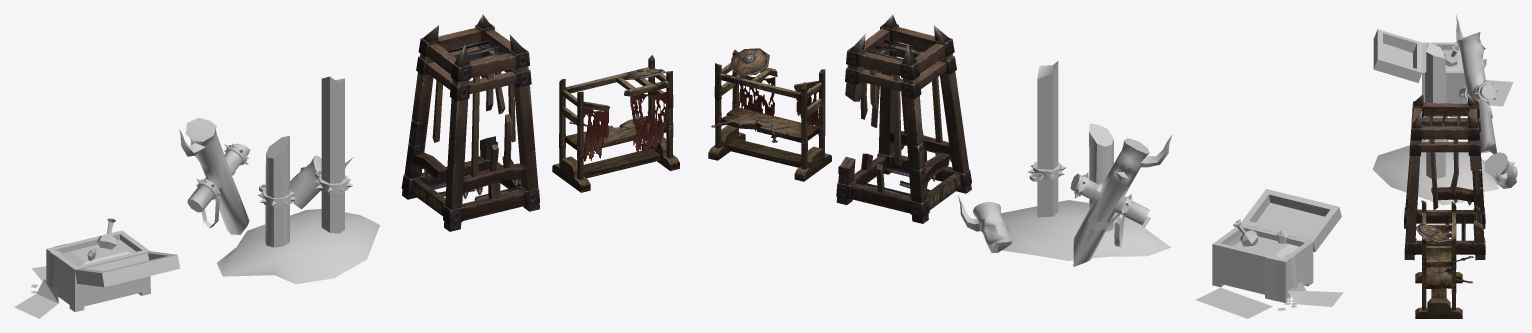
Rendered from 2_DXSD_BaoXiangJiaZi_01.FBX.
The picture shows the model from 3 angles, left to right: view 1: azimuth 30°, elevation 25°; view 2: azimuth 150°, elevation 25°; view 3: azimuth 270°, elevation 25°; orthographic projection. The views are drawn at different scales.
Parts seen in each view (by area): view 1: 2_DXSD_BaoXiangJiaZi_02, 2_DXSD_BaoXiangJiaZi_01, 2_DXSD_BaoXiangJiaZi_05, 2_DXSD_BaoXiangJiaZi_03; view 2: 2_DXSD_BaoXiangJiaZi_01, 2_DXSD_BaoXiangJiaZi_02, 2_DXSD_BaoXiangJiaZi_03, 2_DXSD_BaoXiangJiaZi_05; view 3: 2_DXSD_BaoXiangJiaZi_01, 2_DXSD_BaoXiangJiaZi_02, 2_DXSD_BaoXiangJiaZi_05, 2_DXSD_BaoXiangJiaZi_03.
Boxes of the visible parts, bbox=[...] form: 2_DXSD_BaoXiangJiaZi_02: bbox=[179, 76, 379, 284]; 2_DXSD_BaoXiangJiaZi_01: bbox=[401, 14, 539, 231]; 2_DXSD_BaoXiangJiaZi_05: bbox=[552, 55, 679, 192]; 2_DXSD_BaoXiangJiaZi_03: bbox=[14, 218, 180, 318]; 2_DXSD_BaoXiangJiaZi_01: bbox=[836, 14, 971, 223]; 2_DXSD_BaoXiangJiaZi_02: bbox=[958, 61, 1172, 266]; 2_DXSD_BaoXiangJiaZi_03: bbox=[1196, 189, 1343, 318]; 2_DXSD_BaoXiangJiaZi_05: bbox=[708, 48, 831, 181]; 2_DXSD_BaoXiangJiaZi_01: bbox=[1404, 93, 1485, 260]; 2_DXSD_BaoXiangJiaZi_02: bbox=[1372, 15, 1517, 205]; 2_DXSD_BaoXiangJiaZi_05: bbox=[1415, 200, 1473, 318]; 2_DXSD_BaoXiangJiaZi_03: bbox=[1373, 29, 1513, 106].
Bounding box in the file's own units: 1258 × 323 × 299.
